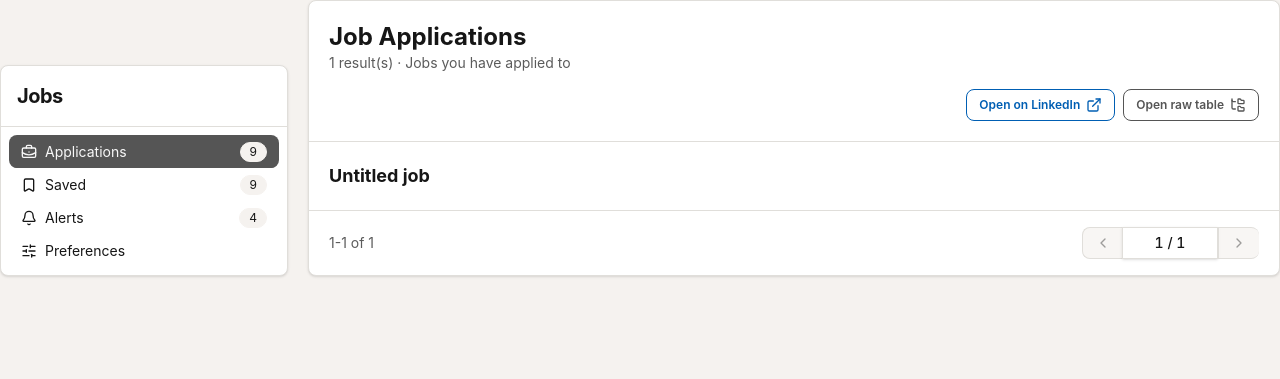
Test case: JobsPage › renders alert cards with keywords and frequency
Click the button "Alerts 4". click: click(64, 218)
box: left=9, top=201, right=279, bottom=234
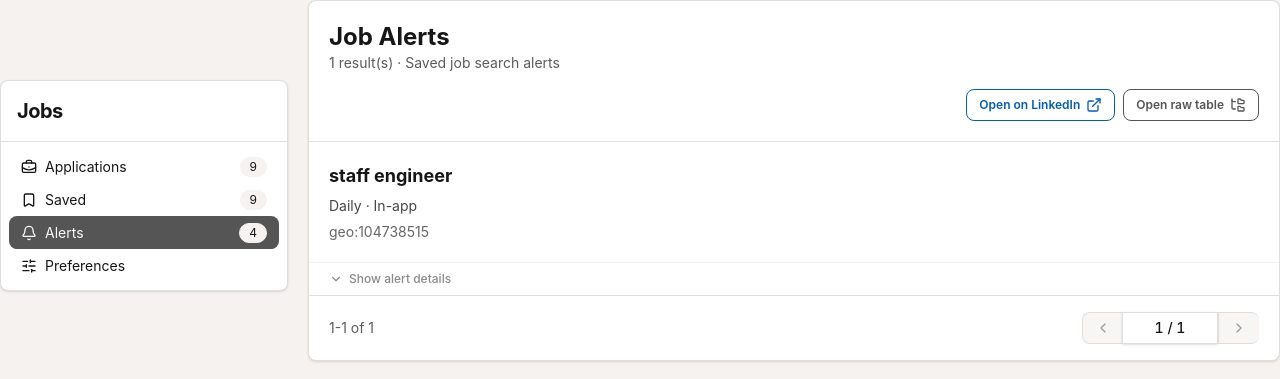
Check: the heading "Job Alerts" is shown, box left=329, top=22, right=450, bottom=51
